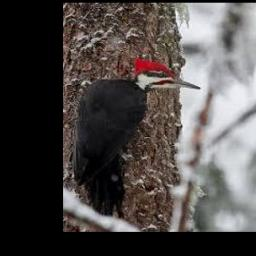Woodpecker: (78, 57, 200, 218)
